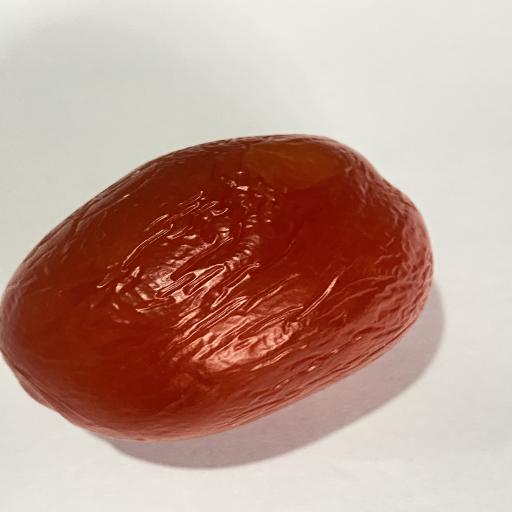spoiled: (247, 241, 250, 246)
